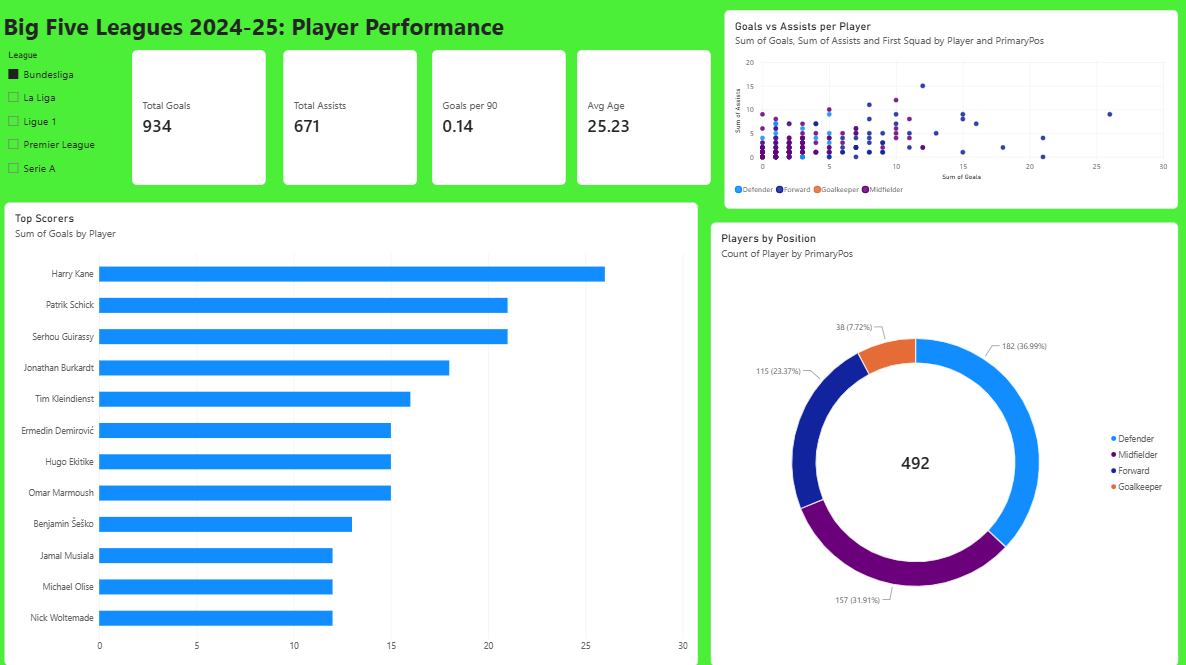

What the dashboard file says about the page in this screenshot:
{"tool":"powerbi","page":{"name":"Page 1","canvas":[1920,1080],"ordinal":0},"visuals":[{"type":"cardVisual","fields":{"Data":["players_clean.Total Goals"]},"box":[217.9,80.7,216.1,218.2],"z":0},{"type":"cardVisual","fields":{"Data":["players_clean.Total Assists"]},"box":[461.9,80.7,216.1,218.2],"z":1000},{"type":"cardVisual","fields":{"Data":["players_clean.Goals per 90"]},"box":[702,80.7,216.1,218.2],"z":2000},{"type":"cardVisual","fields":{"Data":["players_clean.Avg Age"]},"box":[936,80.7,216.1,218.2],"z":3000},{"type":"clusteredBarChart","title":"Top Scorers","fields":{"Category":["players_clean.Player"],"Y":["Sum(players_clean.Goals)"]},"box":[12.1,326.8,1119.6,748.4],"z":4000},{"type":"donutChart","title":"Players by Position","fields":{"Category":["players_clean.PrimaryPos"],"Y":["CountNonNull(players_clean.Player)"]},"box":[1151.8,359.1,754.4,716.1],"z":5000},{"type":"scatterChart","title":"Goals vs Assists per Player","fields":{"Category":["players_clean.Player"],"Series":["players_clean.PrimaryPos"],"X":["Sum(players_clean.Goals)"],"Y":["Sum(players_clean.Assists)"]},"box":[1174,16.1,732.3,320.7],"z":6000},{"type":"slicer","fields":{"Values":["players_clean.League"]},"box":[10.1,80.7,415.6,246.1],"z":7000},{"type":"textbox","box":[10.1,16.1,851.3,98.8],"z":8000}]}

Visuals, with their boxes in screenshot pixels (x1, y1, x2, y2), scaled from the page's 1920x1080 canvas onto the 1186x665 screenshot:
cardVisual - players_clean.Total Goals: pyautogui.locateOnScreen(135, 50, 268, 184)
cardVisual - players_clean.Total Assists: pyautogui.locateOnScreen(285, 50, 419, 184)
cardVisual - players_clean.Goals per 90: pyautogui.locateOnScreen(434, 50, 567, 184)
cardVisual - players_clean.Avg Age: pyautogui.locateOnScreen(578, 50, 712, 184)
"Top Scorers" clusteredBarChart: pyautogui.locateOnScreen(7, 201, 699, 662)
"Players by Position" donutChart: pyautogui.locateOnScreen(711, 221, 1177, 662)
"Goals vs Assists per Player" scatterChart: pyautogui.locateOnScreen(725, 10, 1178, 207)
slicer - players_clean.League: pyautogui.locateOnScreen(6, 50, 263, 201)
textbox: pyautogui.locateOnScreen(6, 10, 532, 71)
